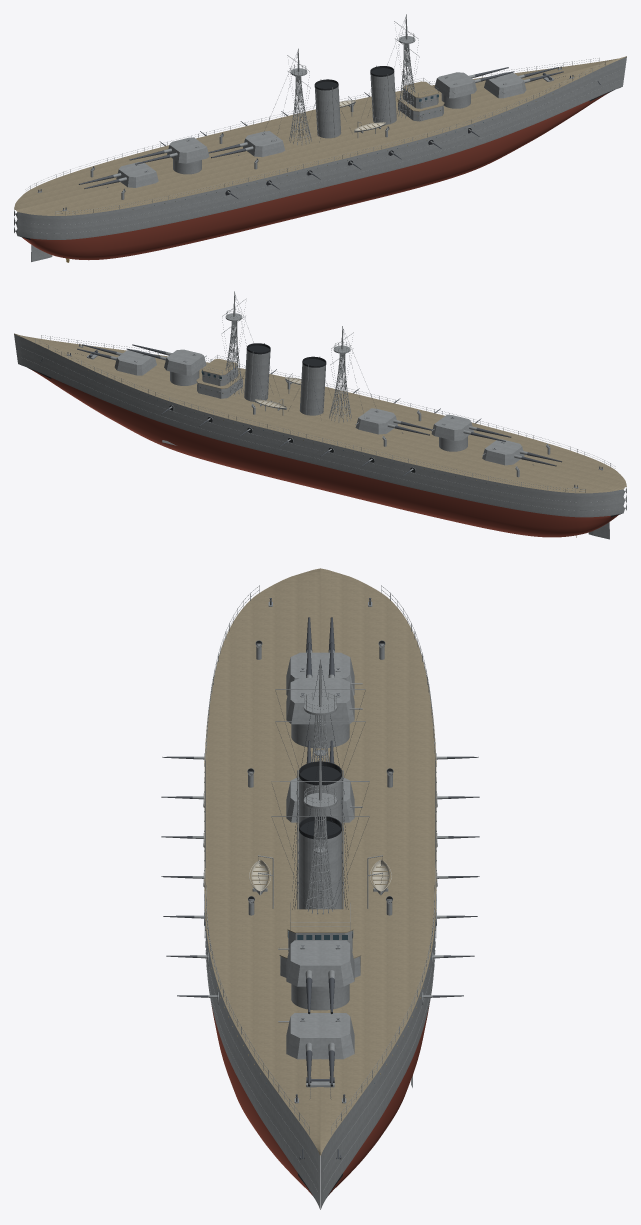
Rendered from delaware.glb.
3 renders of one model, top to bottom at view 1: azimuth 30°, elevation 25°; view 2: azimuth 150°, elevation 25°; view 3: azimuth 270°, elevation 25°, orthographic. The views are drawn at different scales.
Visible parts, largest first — view 1: Delaware class; view 2: Delaware class; view 3: Delaware class.
Boxes of the visible parts, <box> form: Delaware class: <box>14,14,626,262</box>; Delaware class: <box>14,291,626,539</box>; Delaware class: <box>161,568,479,1209</box>.
Size of the model in its own units: 158 by 39.29 by 35.63.
8 materials, 2 textured.
